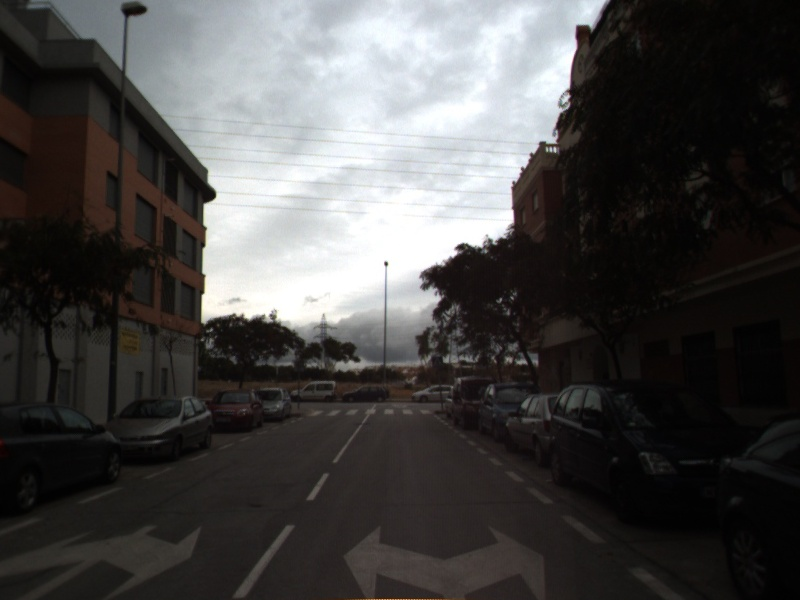LEFT_RIGHT: (340, 520, 550, 600)
